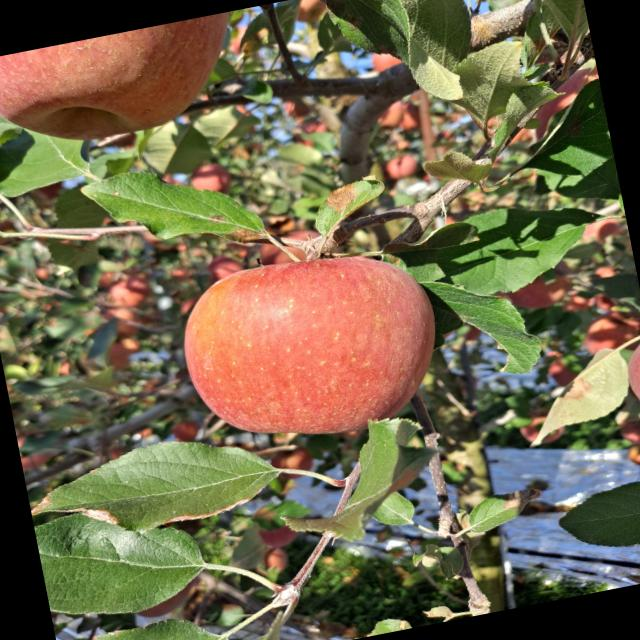fresh: (161, 226, 466, 466)
